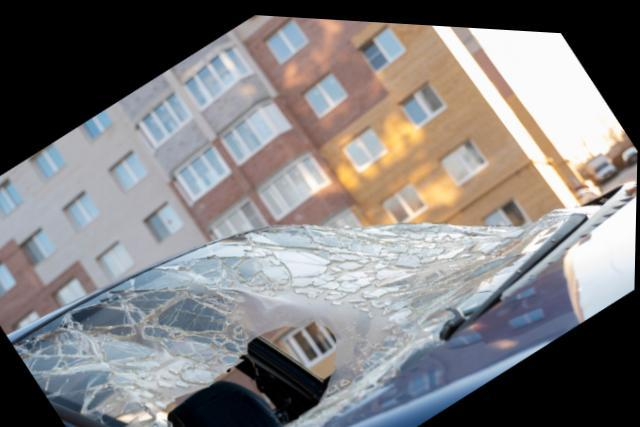glass shatter: (14, 196, 599, 427)
